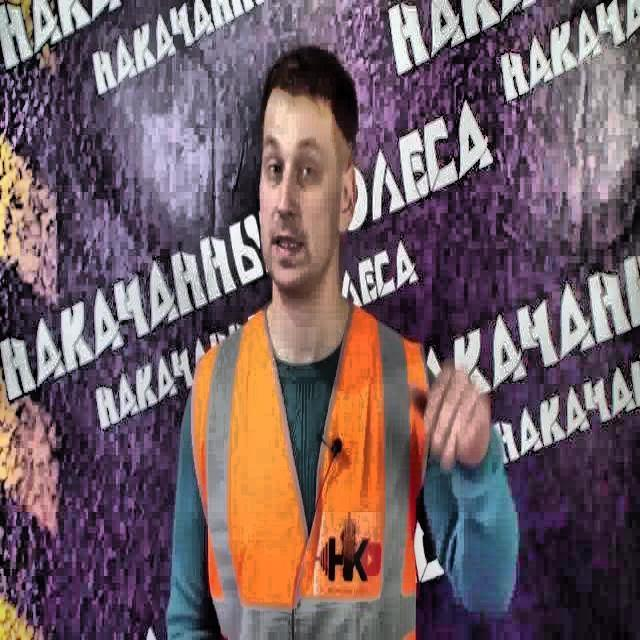safety_jacket: (190, 303, 430, 640)
